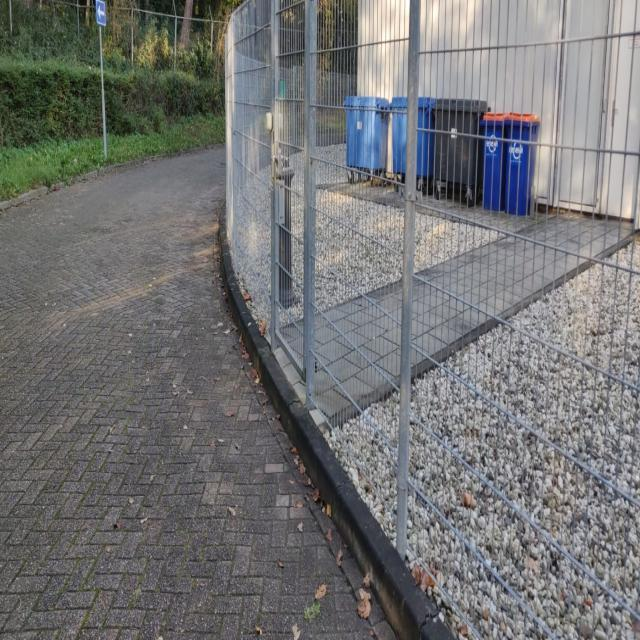fence line: (221, 3, 635, 618)
